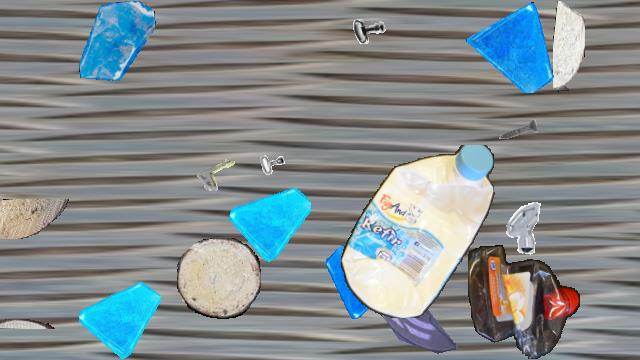glass: (466, 1, 558, 93), (373, 275, 457, 359), (79, 277, 161, 359), (229, 180, 311, 262), (77, 1, 157, 81), (326, 243, 402, 319)
metal: (193, 141, 253, 201), (492, 197, 550, 255), (247, 151, 297, 201), (497, 108, 539, 150), (349, 9, 389, 49)
plastic: (340, 145, 496, 317), (468, 245, 580, 359)
wood: (177, 238, 261, 318), (553, 1, 585, 91), (0, 199, 71, 239), (0, 319, 55, 329)
